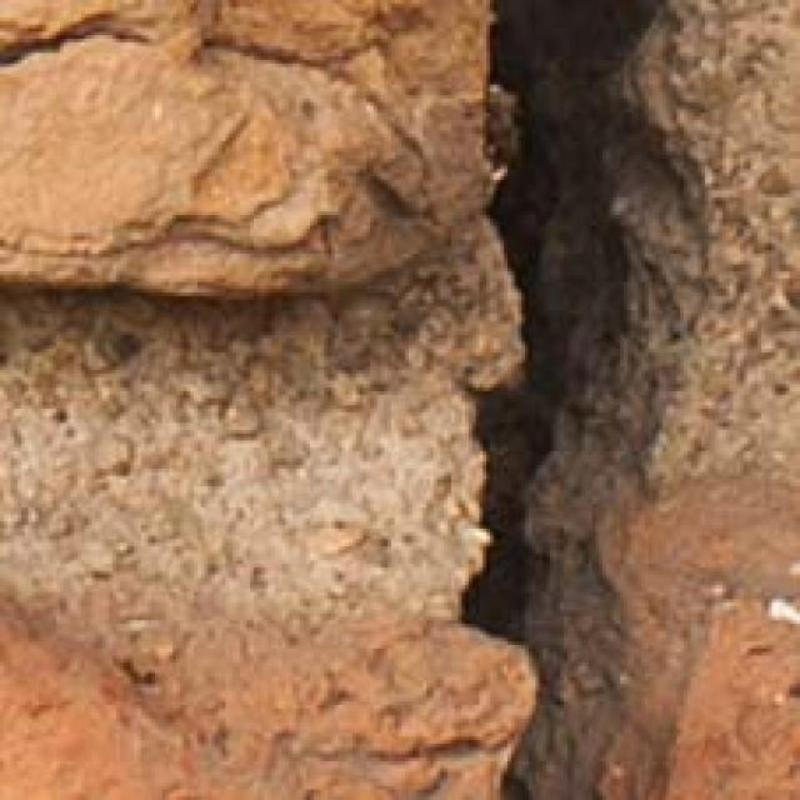pothole: (464, 0, 661, 799)
